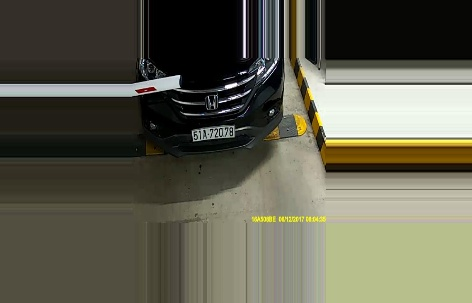plate: (187, 124, 238, 142)
